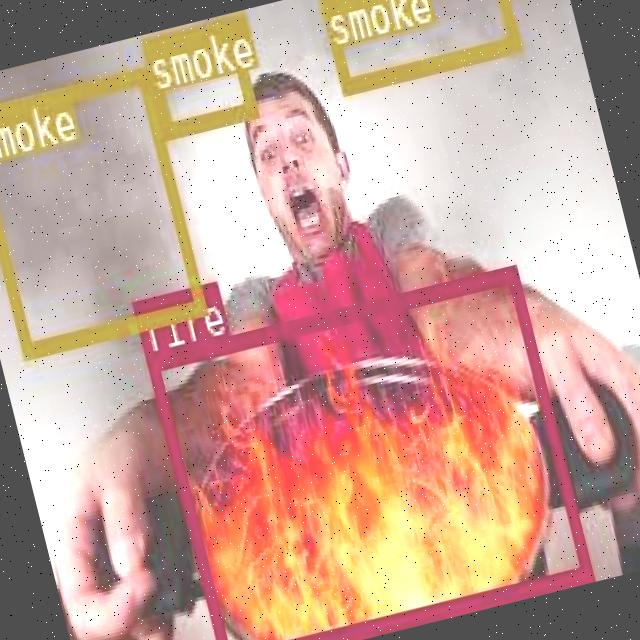fire: (143, 263, 589, 640)
smoke: (0, 65, 203, 357), (316, 0, 518, 90), (137, 15, 255, 137)
